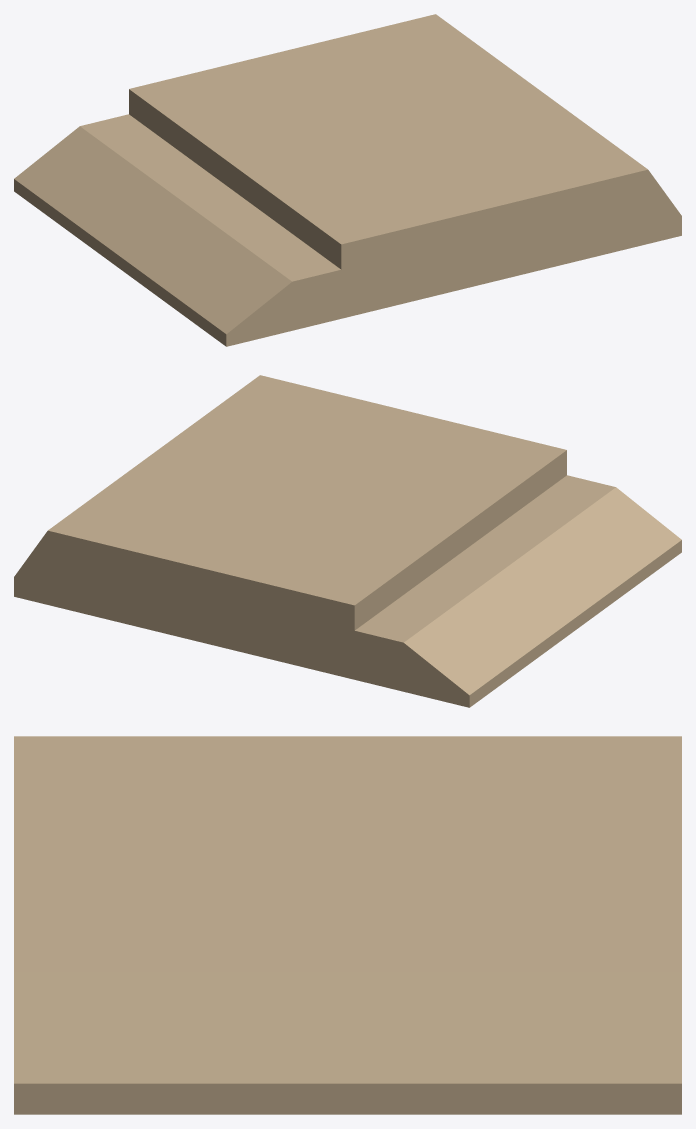
File: SM_secondary_platform.fbx
The picture shows the model from 3 angles, top to bottom: view 1: azimuth 30°, elevation 25°; view 2: azimuth 150°, elevation 25°; view 3: azimuth 270°, elevation 25°; orthographic projection. The views are drawn at different scales.
Parts seen in each view (by area): view 1: secondary_platform; view 2: secondary_platform; view 3: secondary_platform.
Part boxes in pixels (x1=…): secondary_platform: x1=14, y1=14, x2=681, y2=346; secondary_platform: x1=14, y1=375, x2=681, y2=707; secondary_platform: x1=14, y1=736, x2=681, y2=1114.
Size of the model in its own units: 614 by 95.78 by 496.
